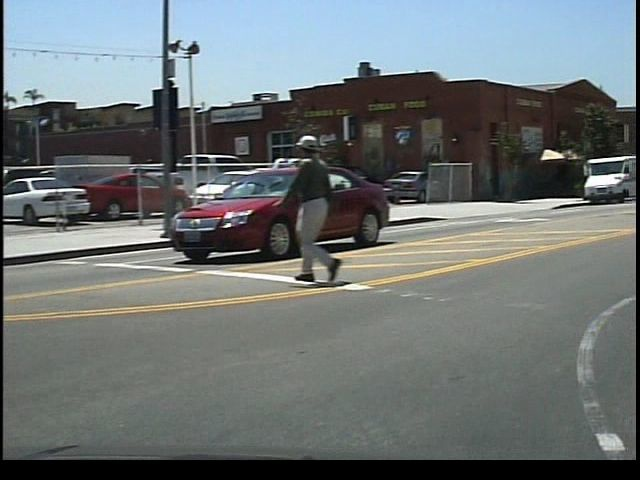person: (289, 131, 365, 295)
